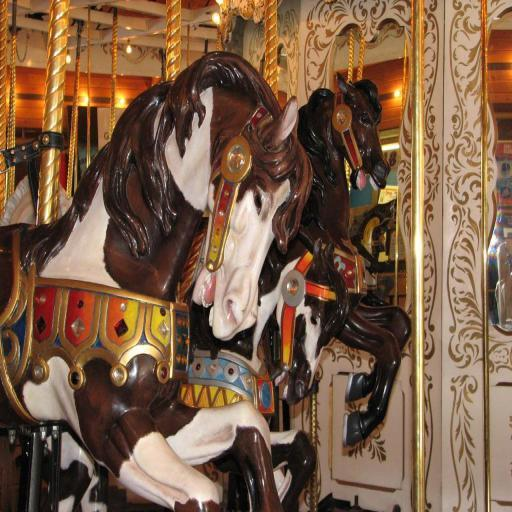horse: (42, 72, 412, 512)
